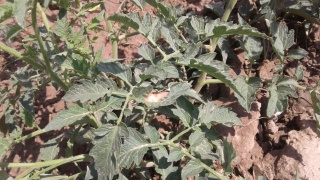tomato diseased leaf: (139, 84, 180, 106)
tomato plant: (1, 3, 111, 177), (147, 1, 310, 72), (116, 114, 226, 175)
